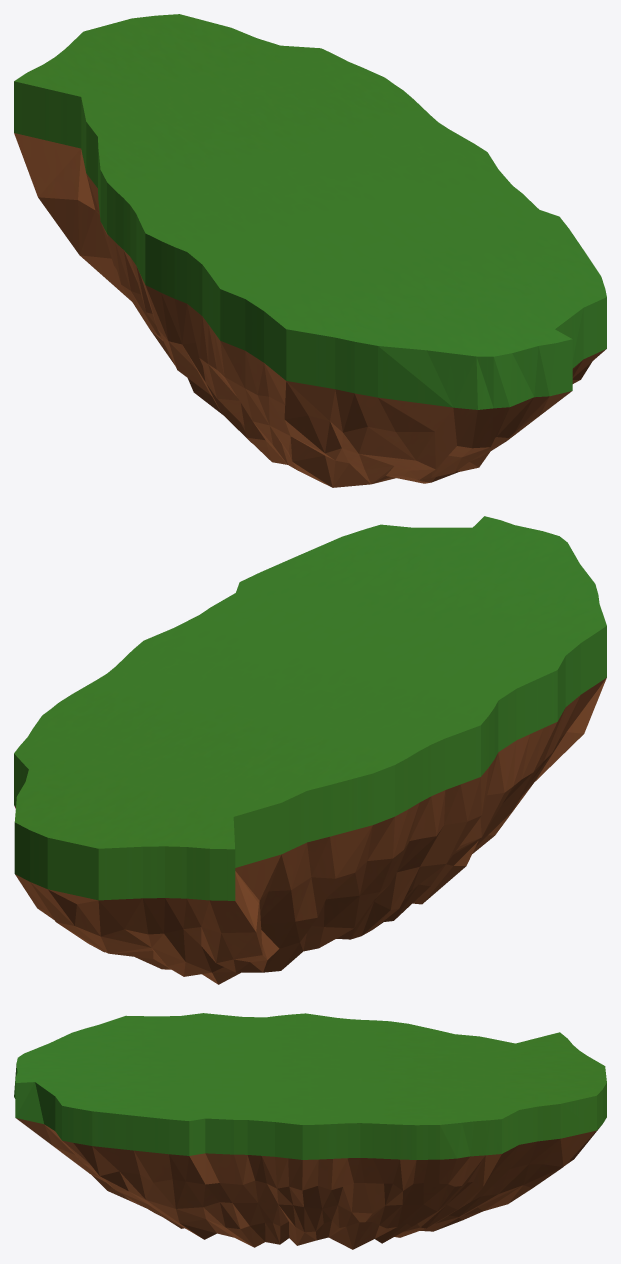
Rendered from Surface_Jeju.fbx.
3 renders of one model, top to bottom at view 1: azimuth 30°, elevation 25°; view 2: azimuth 150°, elevation 25°; view 3: azimuth 270°, elevation 25°, orthographic. The views are drawn at different scales.
Parts seen in each view (by area): view 1: Surface_Jeju; view 2: Surface_Jeju; view 3: Surface_Jeju.
Part boxes in pixels (x1=…): Surface_Jeju: x1=14, y1=14, x2=606, y2=487; Surface_Jeju: x1=14, y1=516, x2=606, y2=984; Surface_Jeju: x1=14, y1=1013, x2=606, y2=1249.
Size of the model in its own units: 5319 by 3433 by 11888.
1 material, 1 textured.
